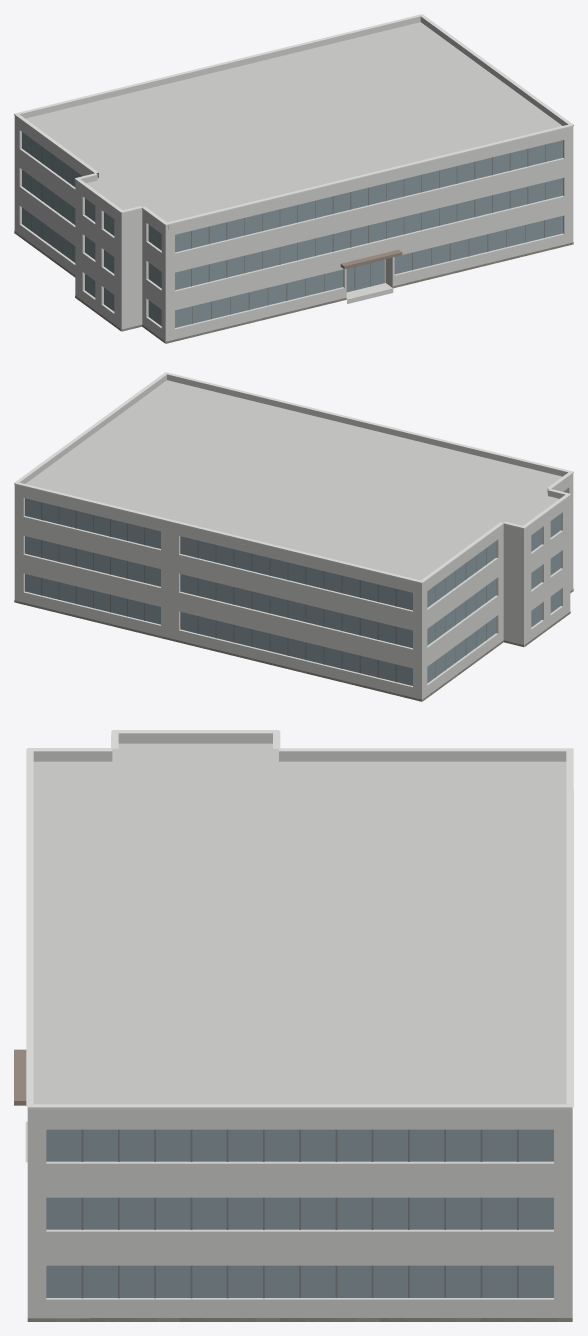
3 renders of one model, top to bottom at view 1: azimuth 30°, elevation 25°; view 2: azimuth 150°, elevation 25°; view 3: azimuth 270°, elevation 25°, orthographic. The views are drawn at different scales.
Visible parts, largest first — view 1: osm631011005__roof, osm631011005__wall, osm631011005__glass, osm631011005__parapet, osm631011005__trim, osm631011005__frame, osm631011005__base, osm631011005__entranceThreshold_0, osm631011005__canopy; view 2: osm631011005__roof, osm631011005__wall, osm631011005__glass, osm631011005__parapet, osm631011005__trim, osm631011005__frame, osm631011005__base; view 3: osm631011005__roof, osm631011005__wall, osm631011005__glass, osm631011005__trim, osm631011005__parapet, osm631011005__frame, osm631011005__base, osm631011005__canopy.
Part boxes in pixels (bbox=[...]): osm631011005__roof: bbox=[25, 22, 561, 343]; osm631011005__wall: bbox=[14, 120, 573, 343]; osm631011005__glass: bbox=[22, 132, 562, 327]; osm631011005__parapet: bbox=[14, 16, 573, 229]; osm631011005__trim: bbox=[14, 14, 573, 225]; osm631011005__frame: bbox=[31, 139, 545, 323]; osm631011005__base: bbox=[14, 231, 573, 343]; osm631011005__entranceThreshold_0: bbox=[346, 283, 393, 303]; osm631011005__canopy: bbox=[340, 249, 402, 269]; osm631011005__roof: bbox=[26, 380, 562, 580]; osm631011005__wall: bbox=[14, 478, 573, 701]; osm631011005__glass: bbox=[25, 489, 567, 685]; osm631011005__parapet: bbox=[14, 374, 573, 587]; osm631011005__trim: bbox=[14, 372, 573, 583]; osm631011005__frame: bbox=[41, 502, 486, 682]; osm631011005__base: bbox=[14, 589, 573, 701]; osm631011005__roof: bbox=[33, 743, 566, 1104]; osm631011005__wall: bbox=[27, 1117, 572, 1318]; osm631011005__glass: bbox=[46, 1129, 553, 1297]; osm631011005__trim: bbox=[26, 730, 573, 1109]; osm631011005__parapet: bbox=[27, 733, 572, 1117]; osm631011005__frame: bbox=[81, 1129, 518, 1298]; osm631011005__base: bbox=[27, 1318, 572, 1321]; osm631011005__canopy: bbox=[14, 1049, 26, 1105].
Bounding box in the file's own units: 42.8 × 11.75 × 26.84.
Materials: 10 (1 with a texture image).
